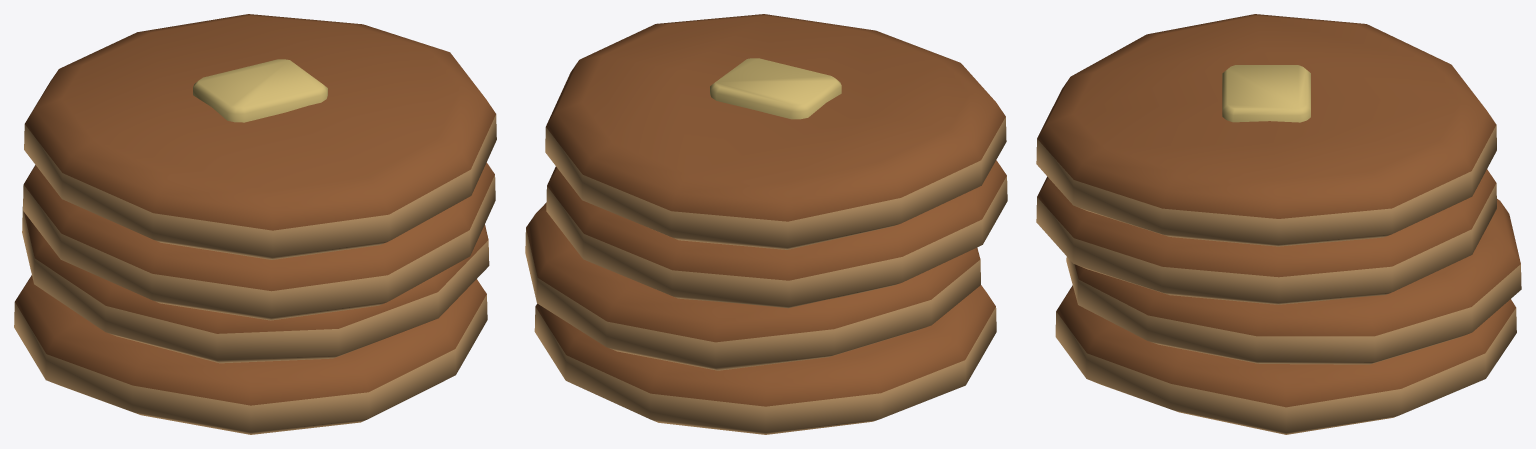
The model's file is Pancakes_01.fbx.
3 renders of one model, left to right at view 1: azimuth 30°, elevation 25°; view 2: azimuth 150°, elevation 25°; view 3: azimuth 270°, elevation 25°, orthographic. The views are drawn at different scales.
Parts seen in each view (by area): view 1: Pancakes_01; view 2: Pancakes_01; view 3: Pancakes_01.
Part boxes in pixels (x1,y1,x2,y2): Pancakes_01: (14,14,496,434); Pancakes_01: (525,14,1007,434); Pancakes_01: (1036,14,1521,434).
Bounding box in the file's own units: 0.1553 × 0.0946 × 0.1604.
